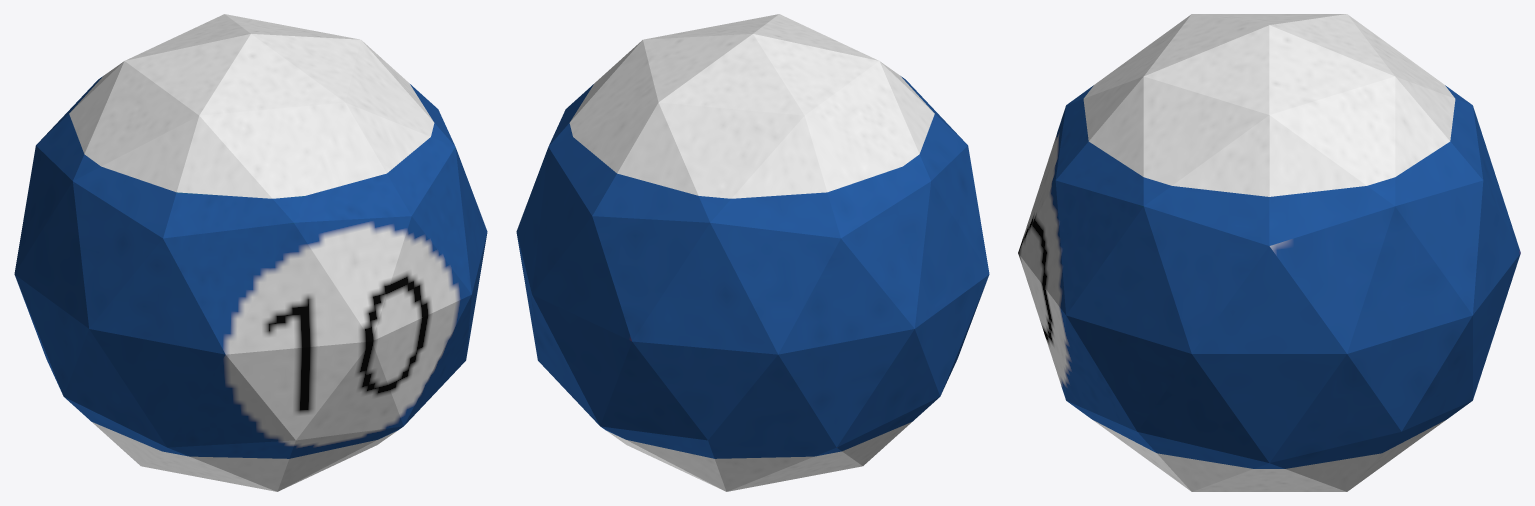
File: pool_ball_10.obj
3 views of the same model, side by side, from view 1: azimuth 30°, elevation 25°; view 2: azimuth 150°, elevation 25°; view 3: azimuth 270°, elevation 25° (orthographic). The views are drawn at different scales.
Parts seen in each view (by area): view 1: PoolBall_10; view 2: PoolBall_10; view 3: PoolBall_10.
Part boxes in pixels (x1,y1,x2,y2): PoolBall_10: (14,14,487,491); PoolBall_10: (516,14,989,491); PoolBall_10: (1018,14,1520,491).
Bounding box in the file's own units: 0.0709 × 0.0745 × 0.0745.
Materials: 1 (1 with a texture image).
